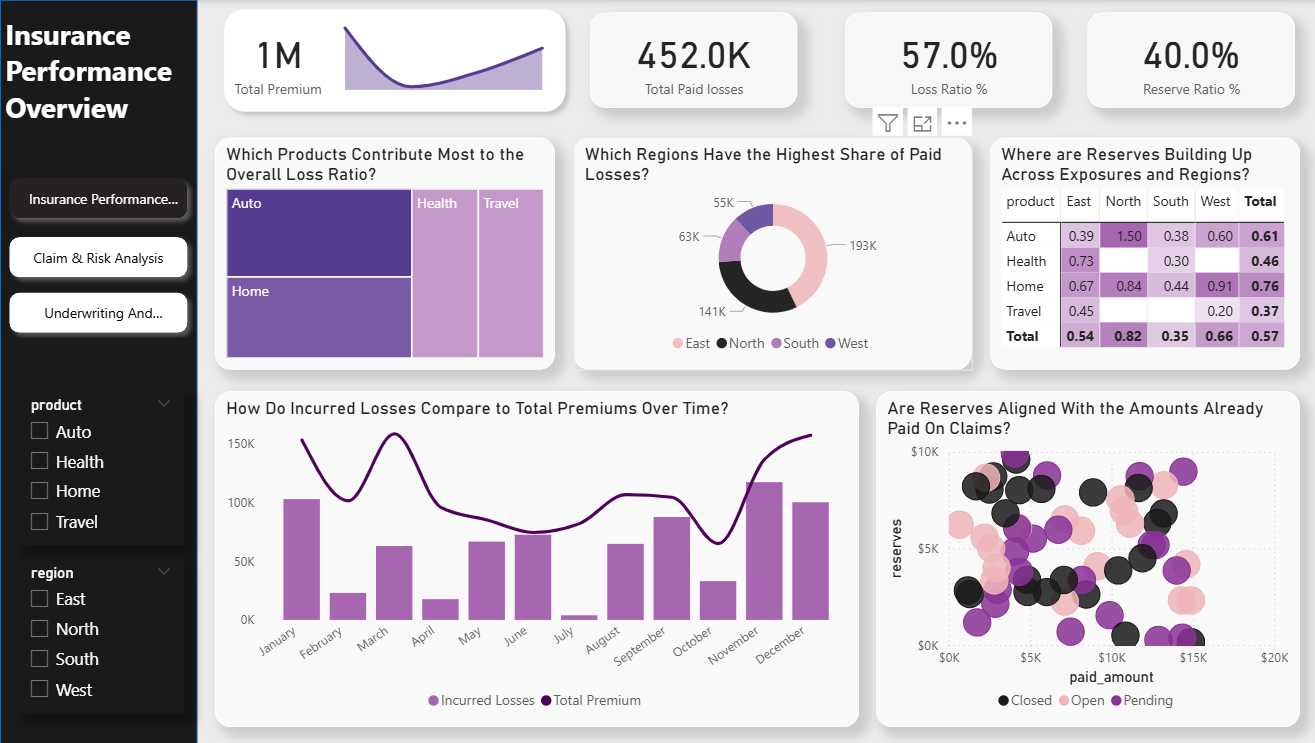

The dashboard page shown, as its layout file describes it:
{"tool":"powerbi","page":{"name":"Insurance Performance Overview","canvas":[1280,720],"ordinal":0},"visuals":[{"type":"shape","box":[9.6,0,190.7,720.4],"z":0},{"type":"pivotTable","title":"Where are Reserves Building Up Across Exposures and Regions?","fields":{"Rows":["insurance policy.product"],"Columns":["insurance account.region"],"Values":["Measures_.Loss Ratio %"]},"box":[964.7,133.1,299.1,223.7],"z":1000},{"type":"card","fields":{"Values":["Measures_.Total Paid losses"]},"box":[579.1,12.3,200.3,91.9],"z":2000},{"type":"card","fields":{"Values":["Measures_.Loss Ratio %"]},"box":[824.7,12.3,200.3,91.9],"z":3000},{"type":"card","fields":{"Values":["Measures_.Reserve Ratio %"]},"box":[1059.4,12.3,200.3,91.9],"z":4000},{"type":"treemap","title":"Which Products Contribute Most to the Overall Loss Ratio?","fields":{"Group":["insurance policy.product"],"Values":["Measures_.Total Premium"]},"box":[216.8,133.1,328,223.7],"z":5000},{"type":"textbox","box":[9.6,9.6,207.2,123.5],"z":6000},{"type":"pageNavigator","box":[9.6,163.3,190.7,164.7],"z":7000},{"type":"lineStackedColumnComboChart","title":"How Do Incurred Losses Compare to Total Premiums Over Time?","fields":{"Category":["insurance policy.expiry_date.Variation.Date Hierarchy.Year","insurance policy.expiry_date.Variation.Date Hierarchy.Quarter","insurance policy.expiry_date.Variation.Date Hierarchy.Month","insurance policy.expiry_date.Variation.Date Hierarchy.Day"],"Y2":["Measures_.Total Premium"],"Y":["Measures_.Incurred Losses"]},"box":[216.8,377.4,621.6,323.8],"z":8000},{"type":"scatterChart","title":"Are Reserves Aligned With the Amounts Already Paid On Claims?","fields":{"X":["insurance claim.paid_amount"],"Y":["insurance claim.reserves"],"Size":["CountNonNull(insurance exposure.exposure_value)"],"Series":["insurance claim.claim_status"]},"box":[854.9,377.4,408.9,323.8],"z":9000},{"type":"donutChart","title":"Which Regions Have the Highest Share of Paid Losses?","fields":{"Category":["insurance account.region"],"Y":["Measures_.Total Paid losses"]},"box":[564,133.1,384.2,223.7],"z":10000},{"type":"shape","box":[216.8,0,347.2,116.6],"z":11000},{"type":"card","fields":{"Values":["Measures_.Total Premium"]},"box":[220.9,0,115.3,116.6],"z":12000},{"type":"areaChart","title":"How Are Claims Distributed by Status?","fields":{"Category":["insurance policy.expiry_date.Variation.Date Hierarchy.Year","insurance policy.expiry_date.Variation.Date Hierarchy.Quarter","insurance policy.expiry_date.Variation.Date Hierarchy.Month","insurance policy.expiry_date.Variation.Date Hierarchy.Day"],"Y":["Measures_.Total Premium"]},"box":[312.9,0,251.1,91.9],"z":13000},{"type":"slicer","fields":{"Values":["insurance policy.product"]},"box":[26.1,377.4,160.5,149.6],"z":14000},{"type":"slicer","fields":{"Values":["insurance account.region"]},"box":[26.1,539.3,160.5,149.6],"z":15000}]}

Visuals, with their boxes on the page's 1280x720 design canvas (x1, y1, x2, y2). These are canvas units, not pixel positions in the 1315x743 screenshot, which may show the page scaled, cropped or inside an application window:
shape: select_region(10, 0, 200, 720)
"Where are Reserves Building Up Across Exposures and Regions?" pivotTable: select_region(965, 133, 1264, 357)
card - Measures_.Total Paid losses: select_region(579, 12, 779, 104)
card - Measures_.Loss Ratio %: select_region(825, 12, 1025, 104)
card - Measures_.Reserve Ratio %: select_region(1059, 12, 1260, 104)
"Which Products Contribute Most to the Overall Loss Ratio?" treemap: select_region(217, 133, 545, 357)
textbox: select_region(10, 10, 217, 133)
pageNavigator: select_region(10, 163, 200, 328)
"How Do Incurred Losses Compare to Total Premiums Over Time?" lineStackedColumnComboChart: select_region(217, 377, 838, 701)
"Are Reserves Aligned With the Amounts Already Paid On Claims?" scatterChart: select_region(855, 377, 1264, 701)
"Which Regions Have the Highest Share of Paid Losses?" donutChart: select_region(564, 133, 948, 357)
shape: select_region(217, 0, 564, 117)
card - Measures_.Total Premium: select_region(221, 0, 336, 117)
"How Are Claims Distributed by Status?" areaChart: select_region(313, 0, 564, 92)
slicer - insurance policy.product: select_region(26, 377, 187, 527)
slicer - insurance account.region: select_region(26, 539, 187, 689)
